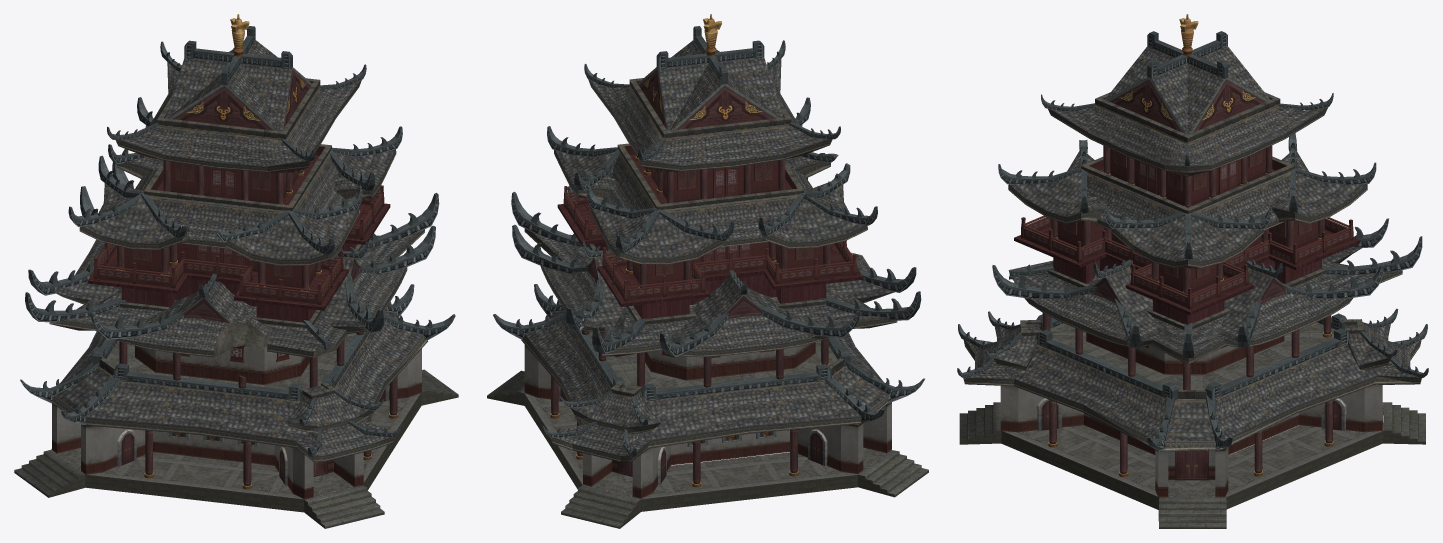
The model's file is q01c_building_002.FBX.
The picture shows the model from 3 angles, left to right: view 1: azimuth 30°, elevation 25°; view 2: azimuth 150°, elevation 25°; view 3: azimuth 270°, elevation 25°; orthographic projection.
Visible parts, largest first — view 1: q01c_building_002_01, q01c_building_002_011, q01c_building_002_02, q01c_building_002_07, q01c_building_002_010, q01c_building_002_09, q01c_building_002_08, q01c_building_002_04, q01c_building_002_06, q01c_building_002_05, q01c_building_002_03; view 2: q01c_building_002_01, q01c_building_002_011, q01c_building_002_02, q01c_building_002_09, q01c_building_002_010, q01c_building_002_07, q01c_building_002_08, q01c_building_002_04, q01c_building_002_06, q01c_building_002_05; view 3: q01c_building_002_01, q01c_building_002_011, q01c_building_002_09, q01c_building_002_010, q01c_building_002_07, q01c_building_002_02, q01c_building_002_08, q01c_building_002_06, q01c_building_002_04, q01c_building_002_05.
Part boxes in pixels (x1=…): q01c_building_002_01: x1=49, y1=40, x2=427, y2=462; q01c_building_002_011: x1=20, y1=14, x2=455, y2=476; q01c_building_002_02: x1=52, y1=346, x2=421, y2=499; q01c_building_002_07: x1=14, y1=369, x2=458, y2=528; q01c_building_002_010: x1=87, y1=185, x2=390, y2=322; q01c_building_002_09: x1=51, y1=333, x2=420, y2=499; q01c_building_002_08: x1=109, y1=160, x2=398, y2=489; q01c_building_002_04: x1=117, y1=162, x2=389, y2=485; q01c_building_002_06: x1=124, y1=161, x2=315, y2=290; q01c_building_002_05: x1=88, y1=146, x2=389, y2=307; q01c_building_002_03: x1=51, y1=114, x2=371, y2=357; q01c_building_002_01: x1=521, y1=40, x2=897, y2=462; q01c_building_002_011: x1=493, y1=14, x2=924, y2=476; q01c_building_002_02: x1=524, y1=342, x2=891, y2=498; q01c_building_002_09: x1=524, y1=331, x2=891, y2=499; q01c_building_002_010: x1=557, y1=178, x2=862, y2=319; q01c_building_002_07: x1=487, y1=370, x2=928, y2=528; q01c_building_002_08: x1=550, y1=154, x2=830, y2=487; q01c_building_002_04: x1=558, y1=161, x2=827, y2=484; q01c_building_002_06: x1=632, y1=160, x2=822, y2=286; q01c_building_002_05: x1=558, y1=146, x2=862, y2=303; q01c_building_002_01: x1=963, y1=46, x2=1421, y2=451; q01c_building_002_011: x1=957, y1=14, x2=1428, y2=480; q01c_building_002_09: x1=1003, y1=322, x2=1383, y2=497; q01c_building_002_010: x1=1014, y1=215, x2=1360, y2=324; q01c_building_002_07: x1=959, y1=402, x2=1425, y2=528; q01c_building_002_02: x1=1000, y1=332, x2=1382, y2=497; q01c_building_002_08: x1=1042, y1=145, x2=1333, y2=477; q01c_building_002_06: x1=1057, y1=148, x2=1318, y2=292; q01c_building_002_04: x1=1037, y1=150, x2=1346, y2=430; q01c_building_002_05: x1=1014, y1=160, x2=1359, y2=311.
Size of the model in its own units: 3775 by 3659 by 3763.
